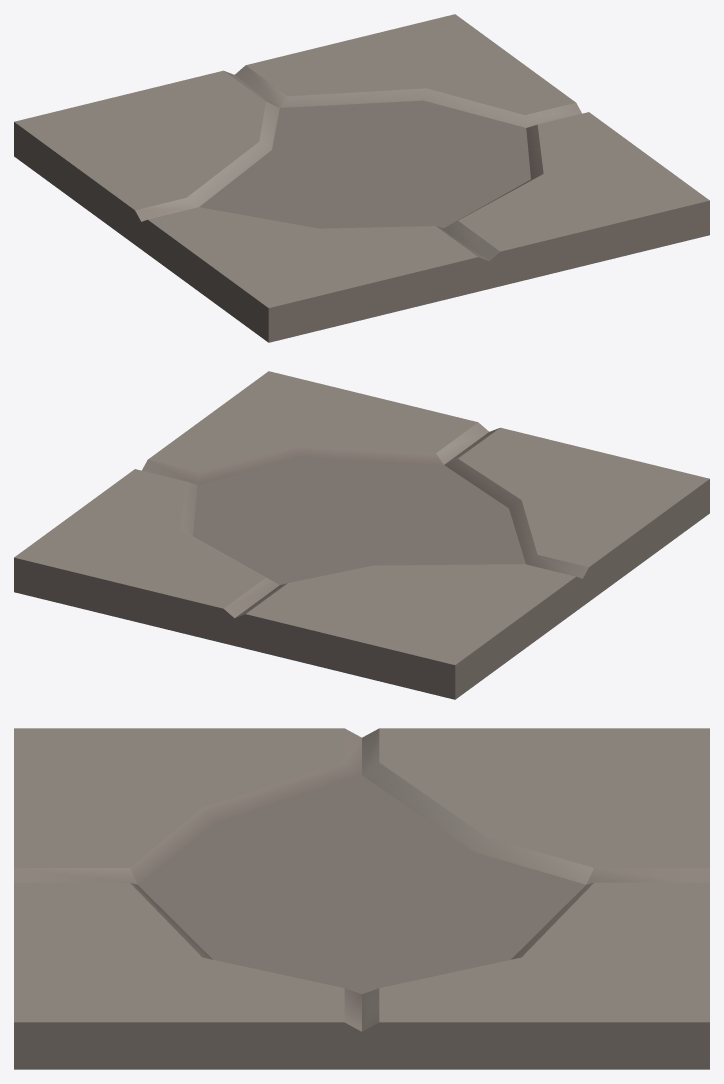
File: floor_tile_small_broken_B.gltf
The picture shows the model from 3 angles, top to bottom: view 1: azimuth 30°, elevation 25°; view 2: azimuth 150°, elevation 25°; view 3: azimuth 270°, elevation 25°; orthographic projection. The views are drawn at different scales.
Visible parts, largest first — view 1: floor_tile_small_broken_B; view 2: floor_tile_small_broken_B; view 3: floor_tile_small_broken_B.
Part boxes in pixels (box(x1,y1,x2,y2)): floor_tile_small_broken_B: box(14, 14, 709, 342); floor_tile_small_broken_B: box(14, 371, 709, 699); floor_tile_small_broken_B: box(14, 728, 709, 1069).
Bounding box in the file's own units: 2 × 0.15 × 2.
1 material, 1 textured.
